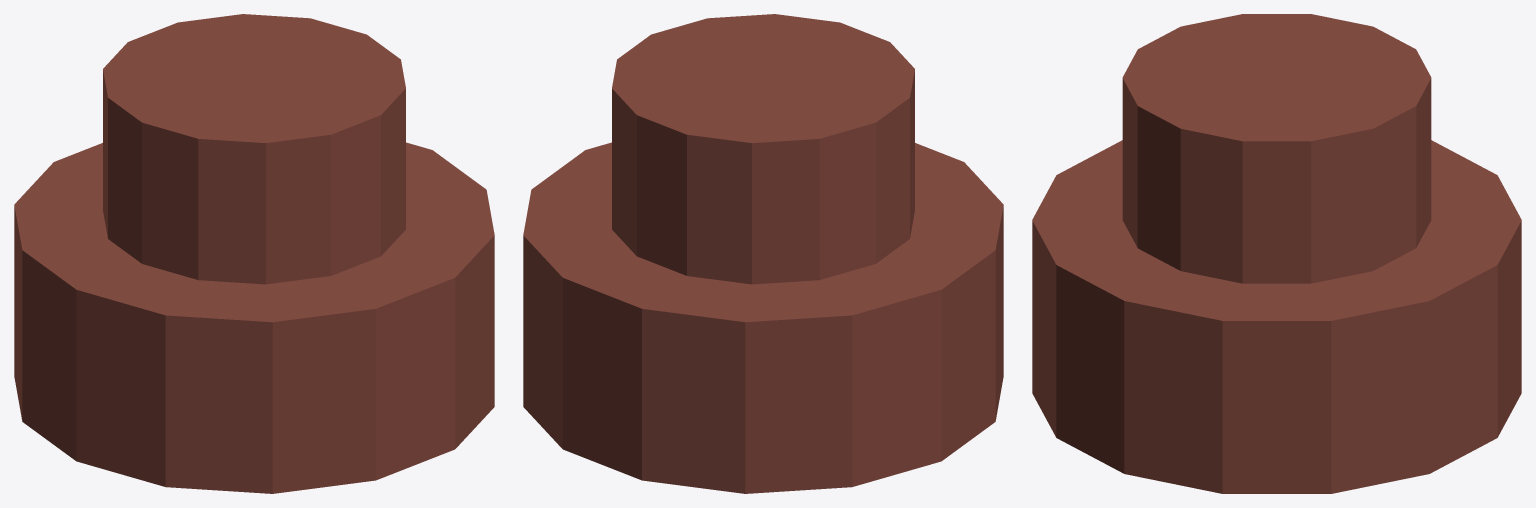
The model's file is Moaigorro.fbx.
3 views of the same model, side by side, from view 1: azimuth 30°, elevation 25°; view 2: azimuth 150°, elevation 25°; view 3: azimuth 270°, elevation 25° (orthographic).
Parts seen in each view (by area): view 1: Cylinder, Cylinder.001; view 2: Cylinder, Cylinder.001; view 3: Cylinder, Cylinder.001.
Boxes of the visible parts, x1,y1,x2,y2 form: Cylinder: (14, 142, 494, 493); Cylinder.001: (103, 14, 405, 284); Cylinder: (523, 142, 1003, 493); Cylinder.001: (612, 14, 914, 284); Cylinder: (1032, 140, 1521, 493); Cylinder.001: (1122, 14, 1431, 283).
Bounding box in the file's own units: 195 × 142 × 200.
